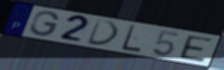2: (56, 15, 93, 44)
5: (151, 29, 181, 57)
D: (86, 17, 122, 47)
E: (178, 34, 215, 64)
G: (29, 10, 61, 37)
L: (121, 24, 143, 54)
